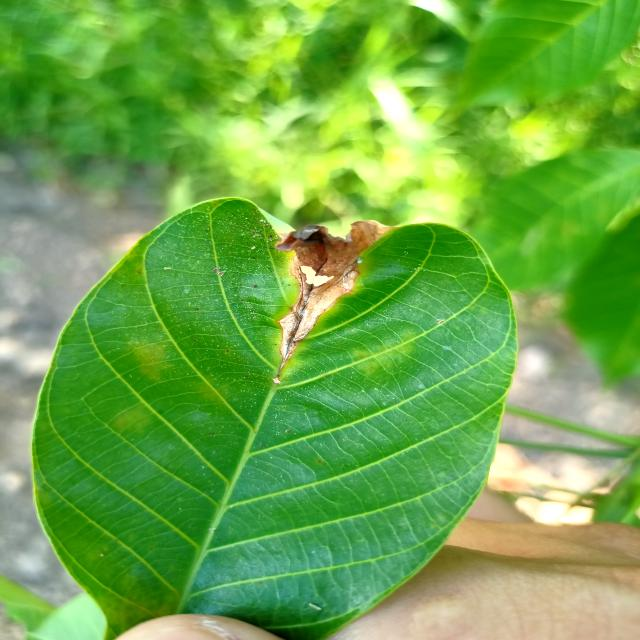Leaf-Blight: (275, 220, 396, 360)
